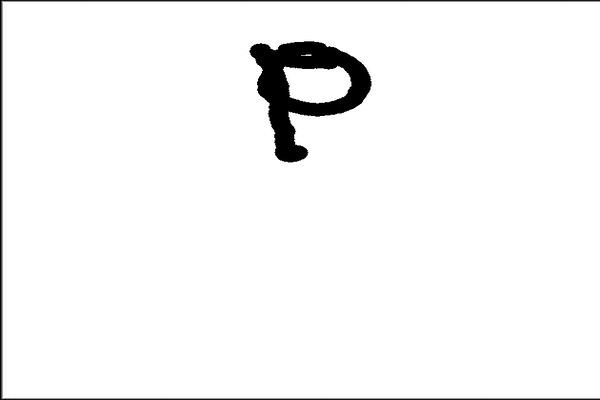P: (235, 21, 392, 176)
